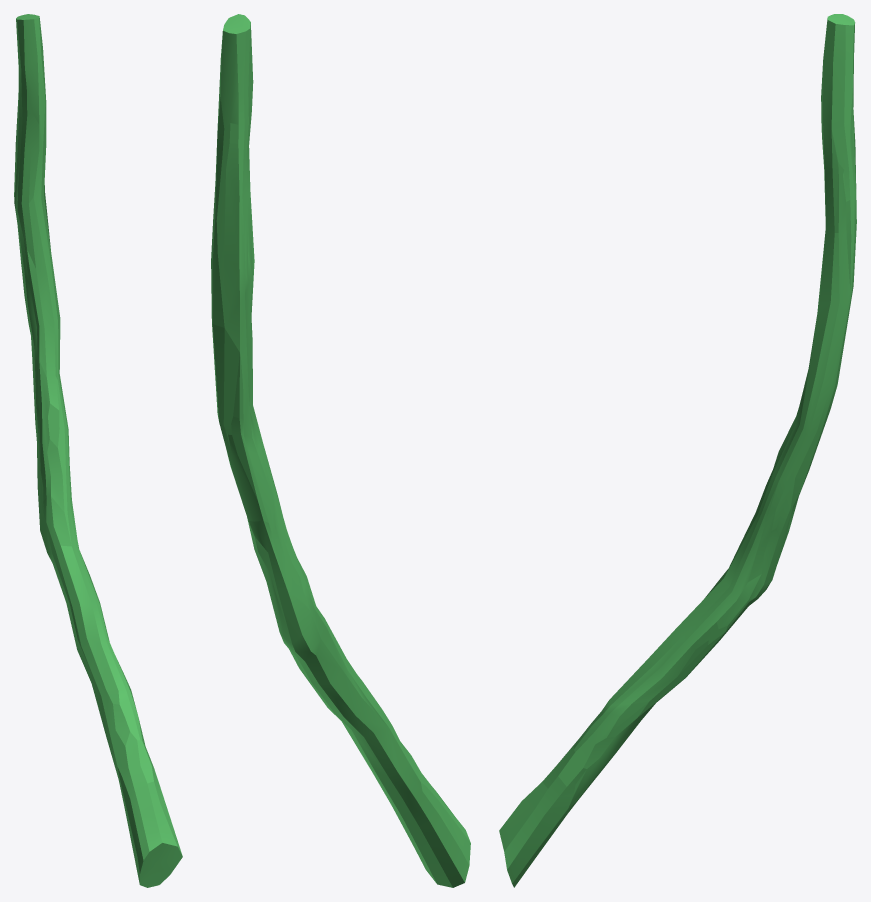
Rendered from jungle_trunk_E.fbx.
3 views of the same model, side by side, from view 1: azimuth 30°, elevation 25°; view 2: azimuth 150°, elevation 25°; view 3: azimuth 270°, elevation 25° (orthographic). The views are drawn at different scales.
Parts seen in each view (by area): view 1: jungle_trunk_E; view 2: jungle_trunk_E; view 3: jungle_trunk_E.
Boxes of the visible parts, bbox=[...] form: jungle_trunk_E: bbox=[14, 14, 182, 887]; jungle_trunk_E: bbox=[211, 14, 470, 887]; jungle_trunk_E: bbox=[499, 14, 856, 887].
Bounding box in the file's own units: 70.34 × 945 × 349.
